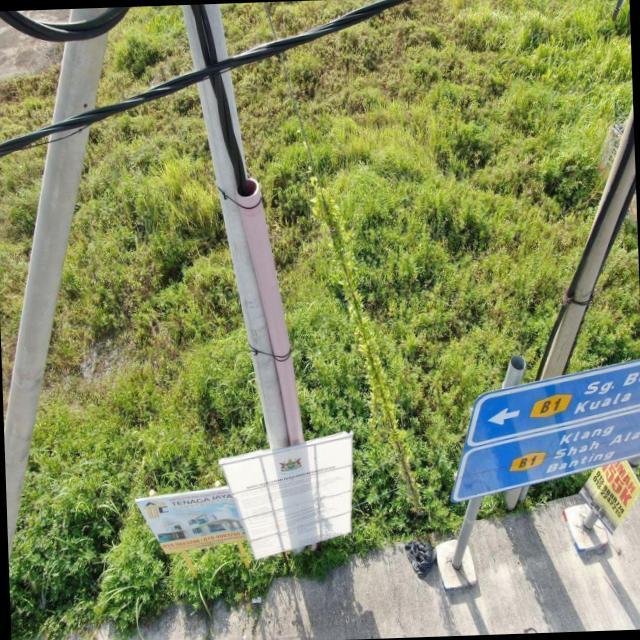critical vegetation: (302, 144, 430, 522)
